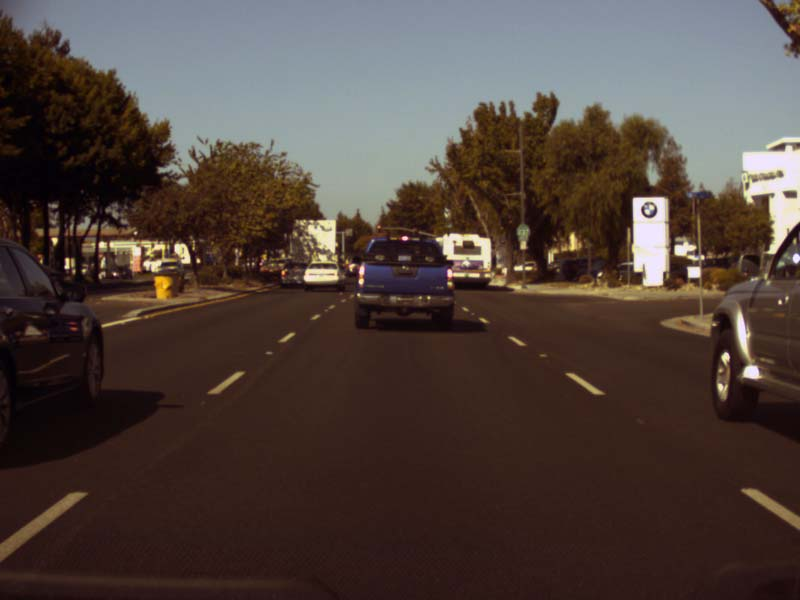Red: (377, 224, 381, 232)
